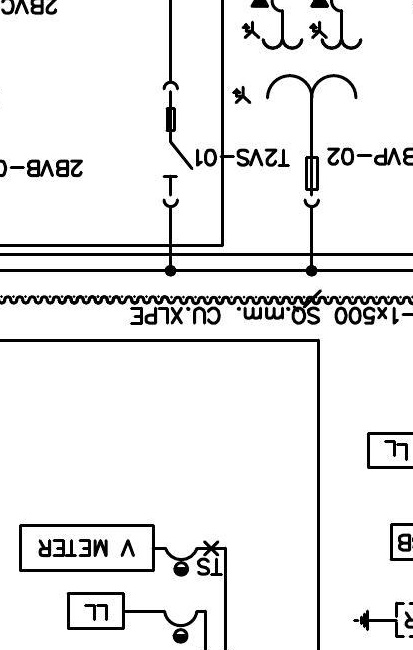22_ds: (162, 80, 194, 209)
LL: (66, 591, 126, 631)
v_m_digital: (18, 523, 156, 573)
